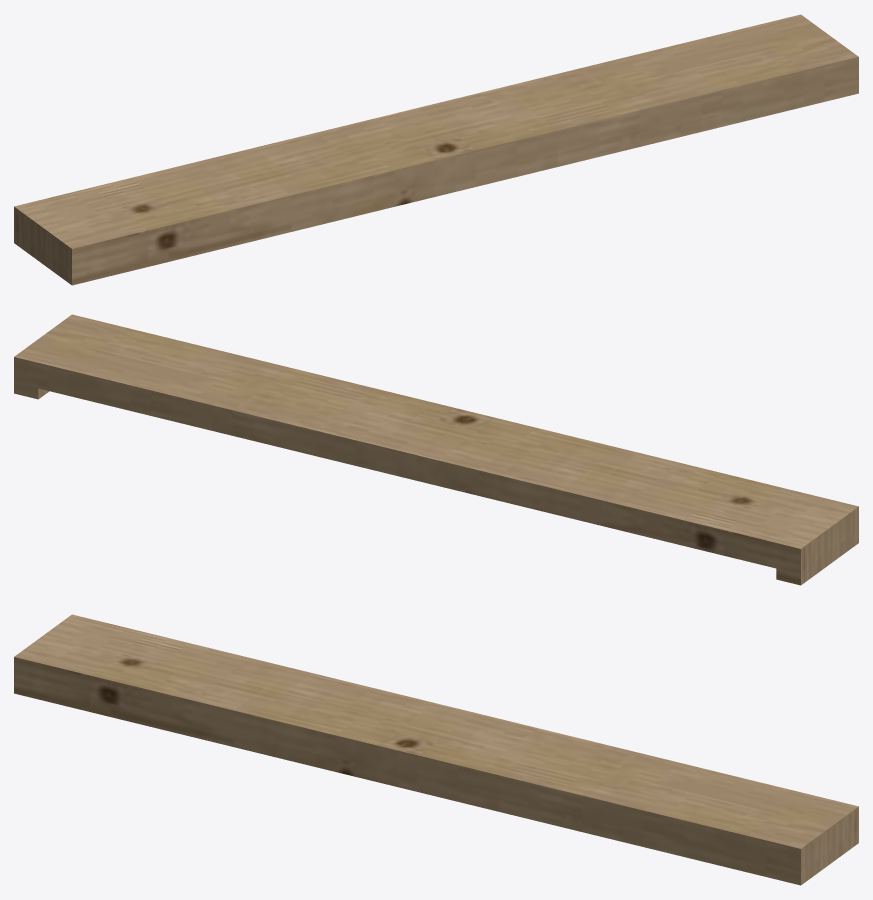
Rendered from Joglo_part_230.fbx.
3 views of the same model, one above another, from view 1: azimuth 30°, elevation 25°; view 2: azimuth 150°, elevation 25°; view 3: azimuth 330°, elevation 25° (orthographic).
Visible parts, largest first — view 1: Mesh300_Wood___Pine_Grained_Horizontal_0.001; view 2: Mesh300_Wood___Pine_Grained_Horizontal_0.001; view 3: Mesh300_Wood___Pine_Grained_Horizontal_0.001.
Boxes of the visible parts, box(x1,y1,x2,y2) form: Mesh300_Wood___Pine_Grained_Horizontal_0.001: box(14, 14, 858, 285); Mesh300_Wood___Pine_Grained_Horizontal_0.001: box(14, 314, 858, 585); Mesh300_Wood___Pine_Grained_Horizontal_0.001: box(14, 614, 858, 885).
Size of the model in its own units: 35.43 by 1.57 by 4.53.
